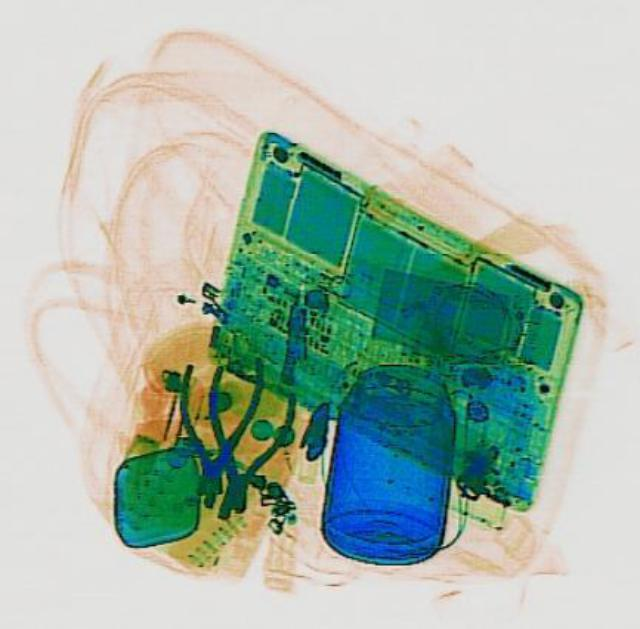Pliers: (164, 350, 264, 509), (193, 365, 297, 516)
